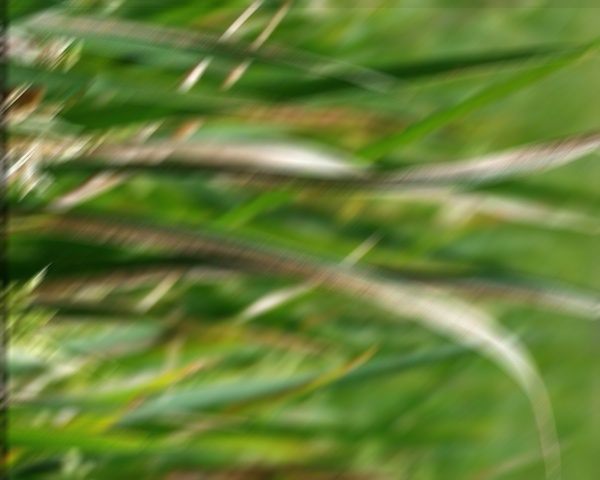Leaf_Blast: (56, 212, 444, 327), (370, 131, 599, 209), (26, 12, 290, 58)
